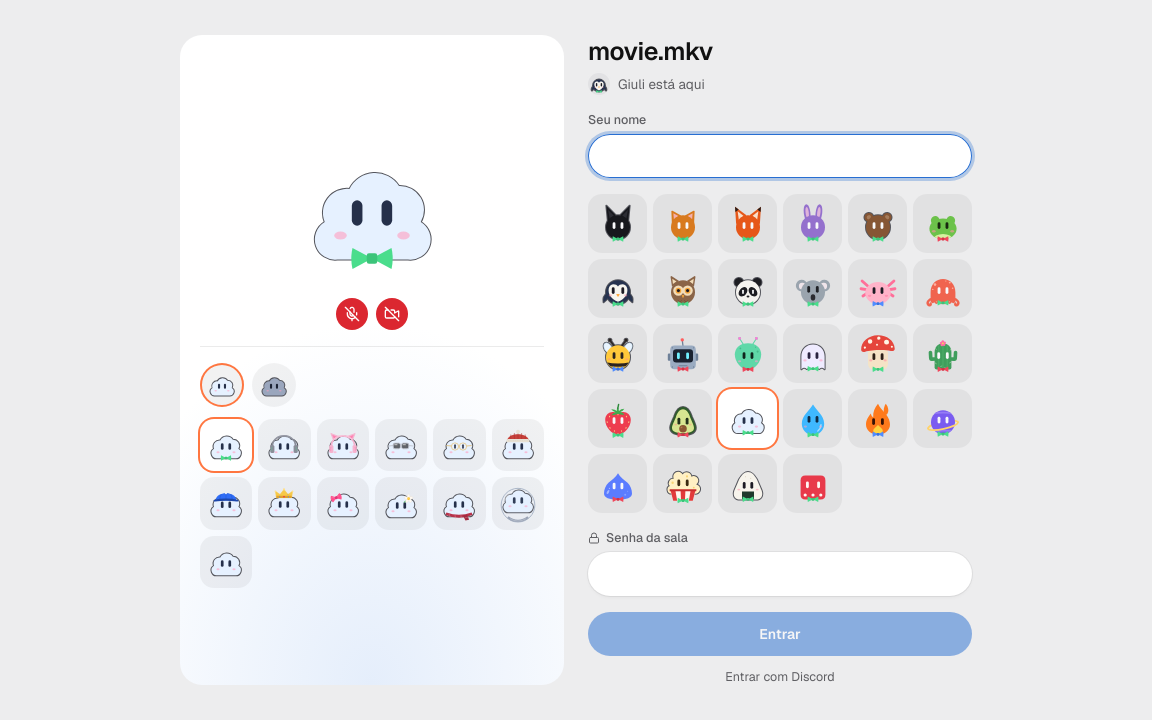
it: porta com senha › fica na porta e explica um bad_password
The width and height of the screenshot is (1152, 720).
In the password field labelled "Senha da sala": x=780, y=574 [588, 552, 972, 596], type "errada"
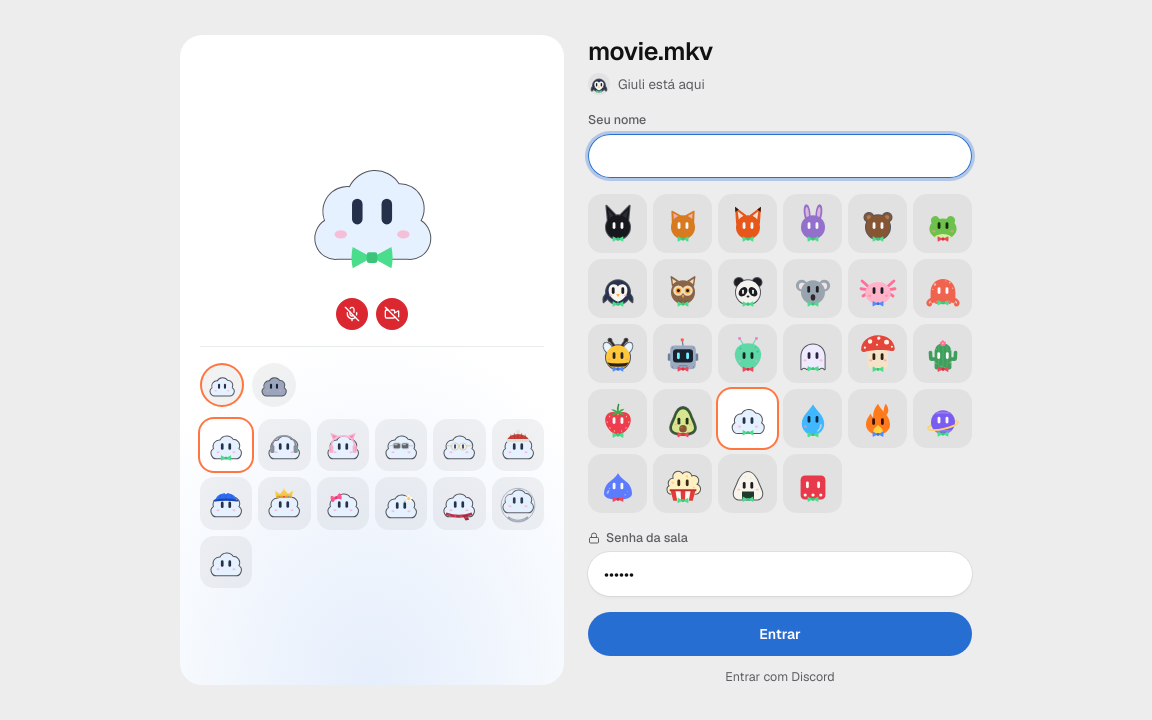
In the field labelled "Seu nome": x=780, y=156 [588, 134, 972, 178], type "Giuli"
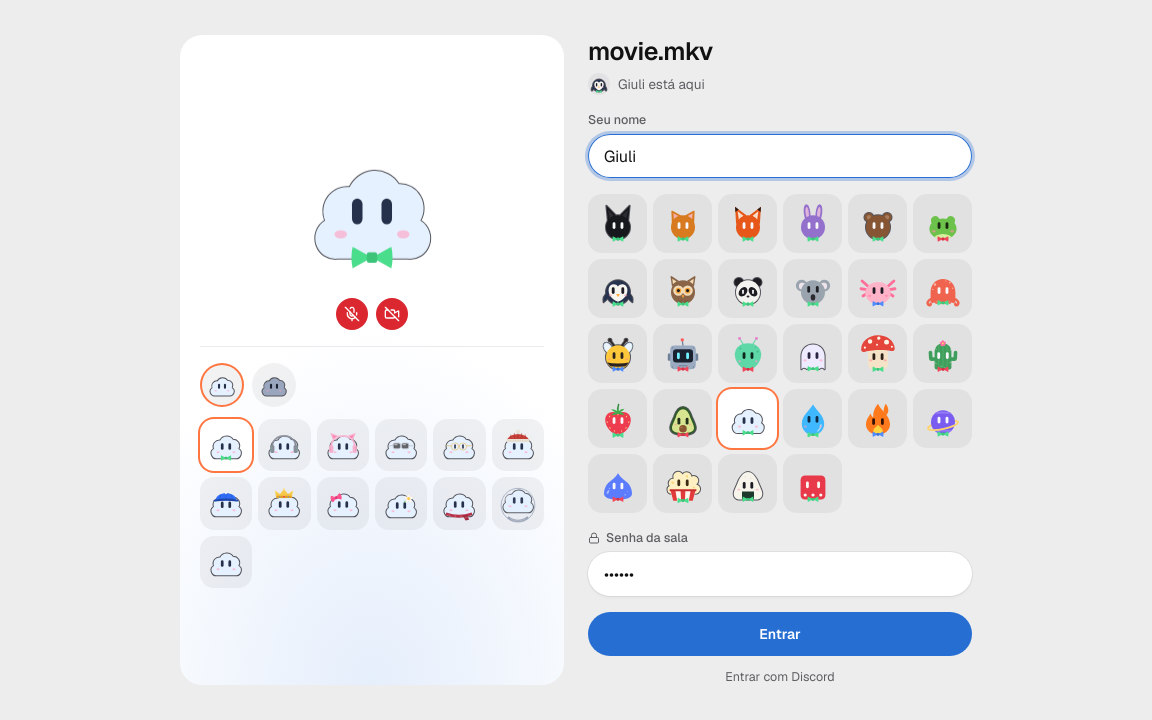
Click the button "Entrar": x=780, y=634 [588, 612, 972, 656]
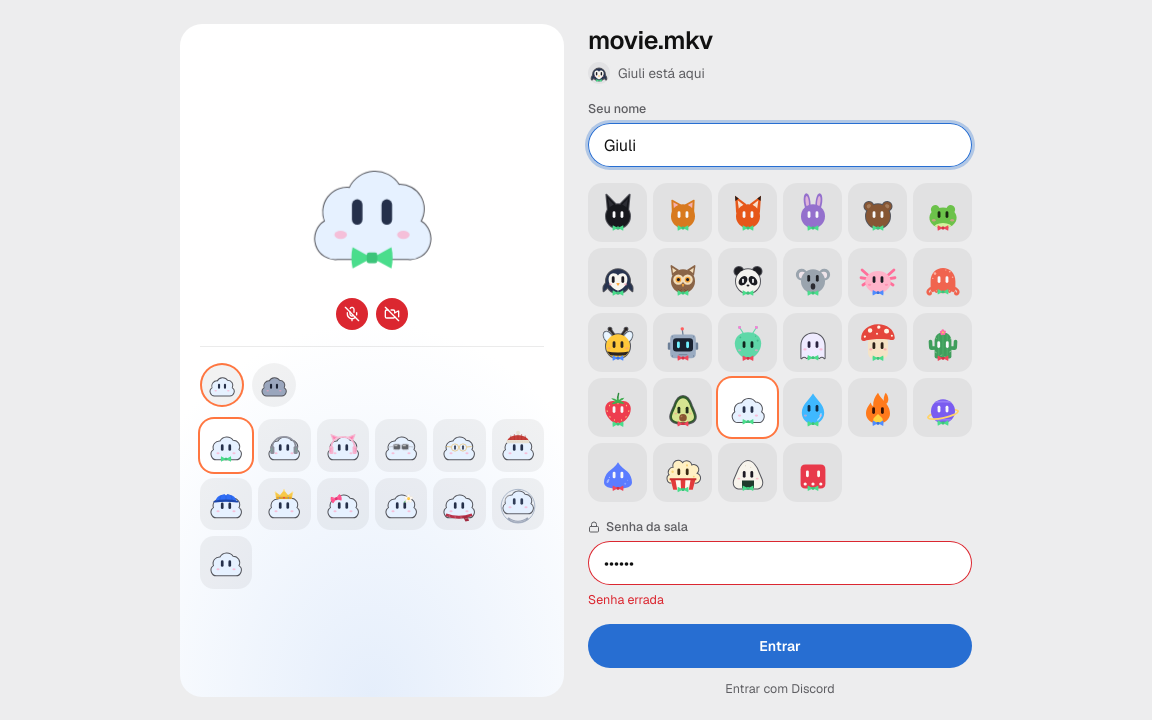
Check: the text "Senha errada" is shown, box [588, 591, 664, 608]
